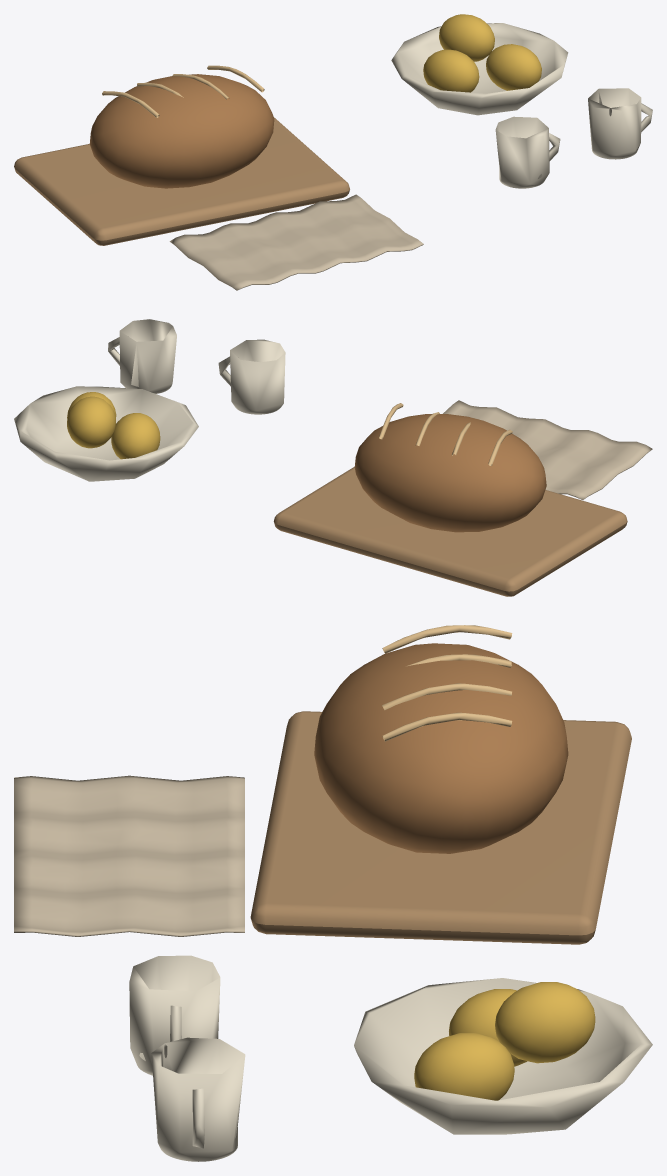
Rendered from kitchen-preparation-light.glb.
3 views of the same model, one above another, from view 1: azimuth 30°, elevation 25°; view 2: azimuth 150°, elevation 25°; view 3: azimuth 270°, elevation 25° (orthographic). The views are drawn at different scales.
Parts seen in each view (by area): view 1: Mood oak board, Mood bread crust, Mood stoneware chalk, Mood linen oat, Mood lemon peel, Mood bread scoring; view 2: Mood oak board, Mood bread crust, Mood stoneware chalk, Mood linen oat, Mood lemon peel, Mood bread scoring; view 3: Mood oak board, Mood bread crust, Mood stoneware chalk, Mood linen oat, Mood lemon peel, Mood bread scoring.
Part boxes in pixels (x1,y1,x2,y2): Mood oak board: (14, 117, 349, 245); Mood bread crust: (89, 74, 274, 188); Mood stoneware chalk: (391, 23, 652, 188); Mood linen oat: (169, 194, 423, 290); Mood lemon peel: (423, 14, 541, 92); Mood bread scoring: (102, 65, 264, 117); Mood oak board: (273, 467, 627, 596); Mood bread crust: (354, 414, 546, 532); Mood stoneware chalk: (14, 319, 285, 481); Mood linen oat: (443, 400, 652, 499); Mood lemon peel: (67, 392, 160, 459); Mood bread scoring: (379, 403, 512, 465); Mood oak board: (250, 711, 631, 944); Mood bread crust: (314, 643, 568, 853); Mood stoneware chalk: (129, 955, 652, 1161); Mood linen oat: (14, 775, 244, 936); Mood lemon peel: (414, 982, 595, 1100); Mood bread scoring: (382, 625, 512, 741).
Size of the model in its own units: 0.9056 by 0.1679 by 0.5533.
